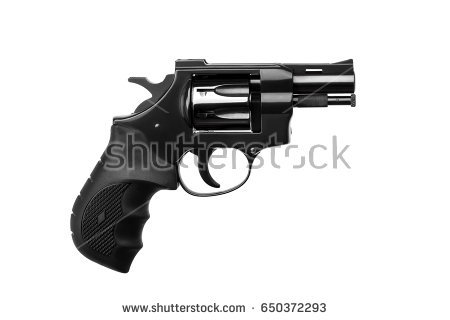Revolver: (49, 37, 364, 282)
